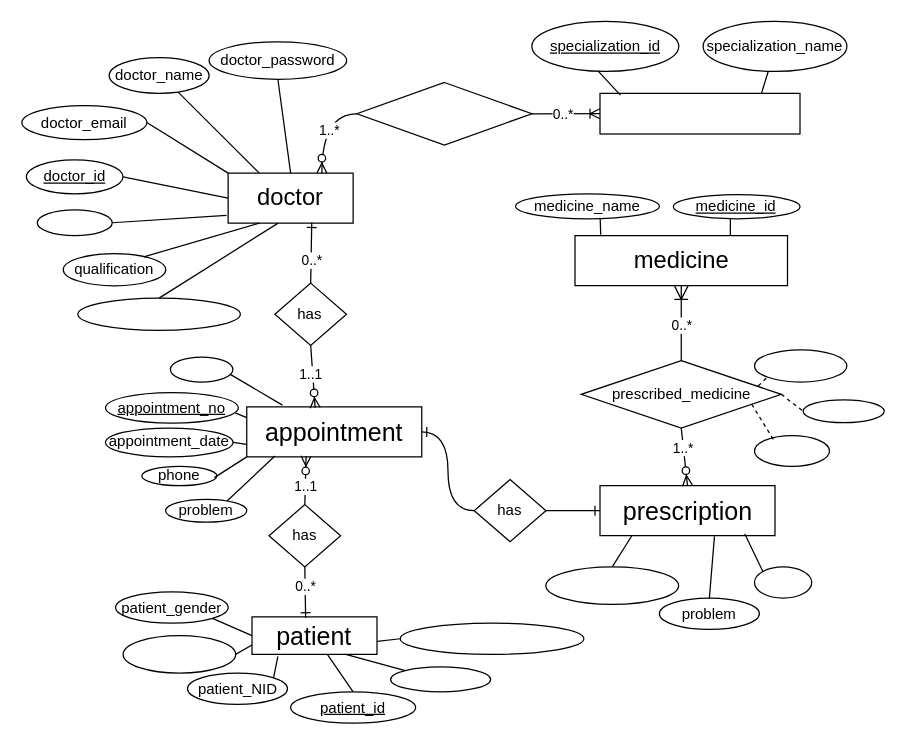
Some shapes in this 906 by 746 pixel diagram are drawn without their labels. Here are the shapes that lost their labels. From the top down, the centre of each, then its label:
[444,113]: doctor_specialization
[699,113]: specialization
[74,222]: mobile
[158,313]: registration_number
[201,369]: status
[800,365]: before_after
[843,410]: duration
[791,450]: dosage
[612,585]: prescription_id
[782,582]: cc
[179,653]: patient_name
[491,638]: patient_birth_regi_no
[440,679]: patient_dob
